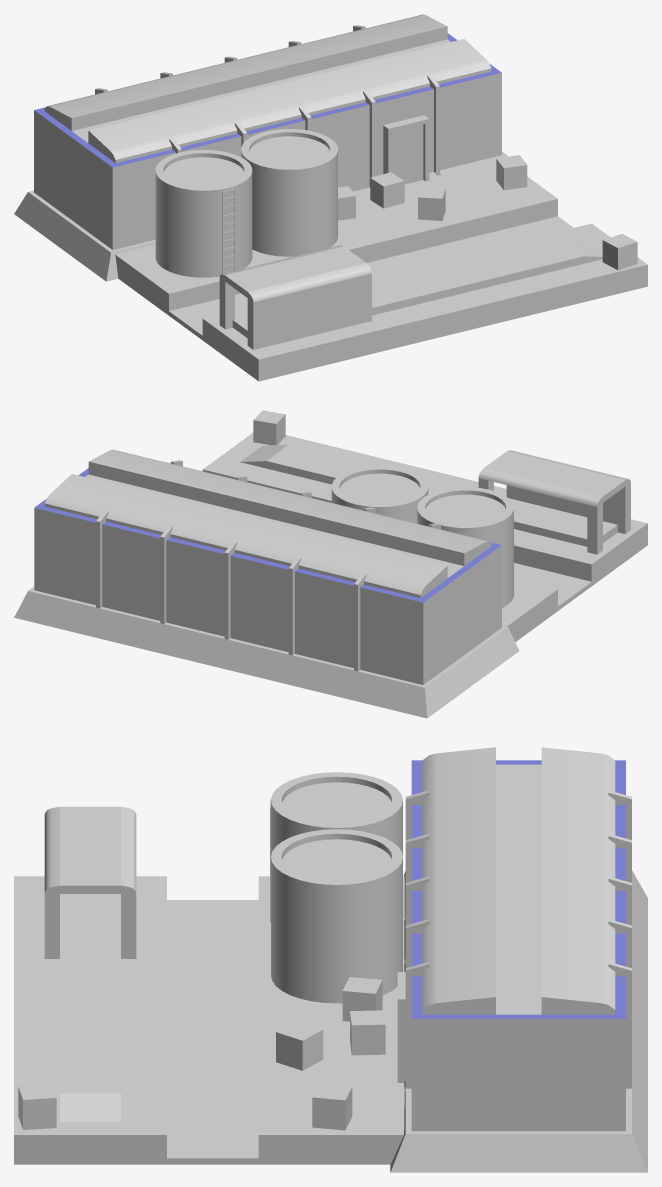
File: supply_center.fbx
3 renders of one model, top to bottom at view 1: azimuth 30°, elevation 25°; view 2: azimuth 150°, elevation 25°; view 3: azimuth 270°, elevation 25°, orthographic. The views are drawn at different scales.
Visible parts, largest first — view 1: Cube.001; view 2: Cube.001; view 3: Cube.001.
Part boxes in pixels (x1=…): Cube.001: x1=14, y1=14, x2=647, y2=381; Cube.001: x1=14, y1=410, x2=647, y2=718; Cube.001: x1=14, y1=747, x2=647, y2=1172.
Bounding box in the file's own units: 212 × 58.87 × 207.
